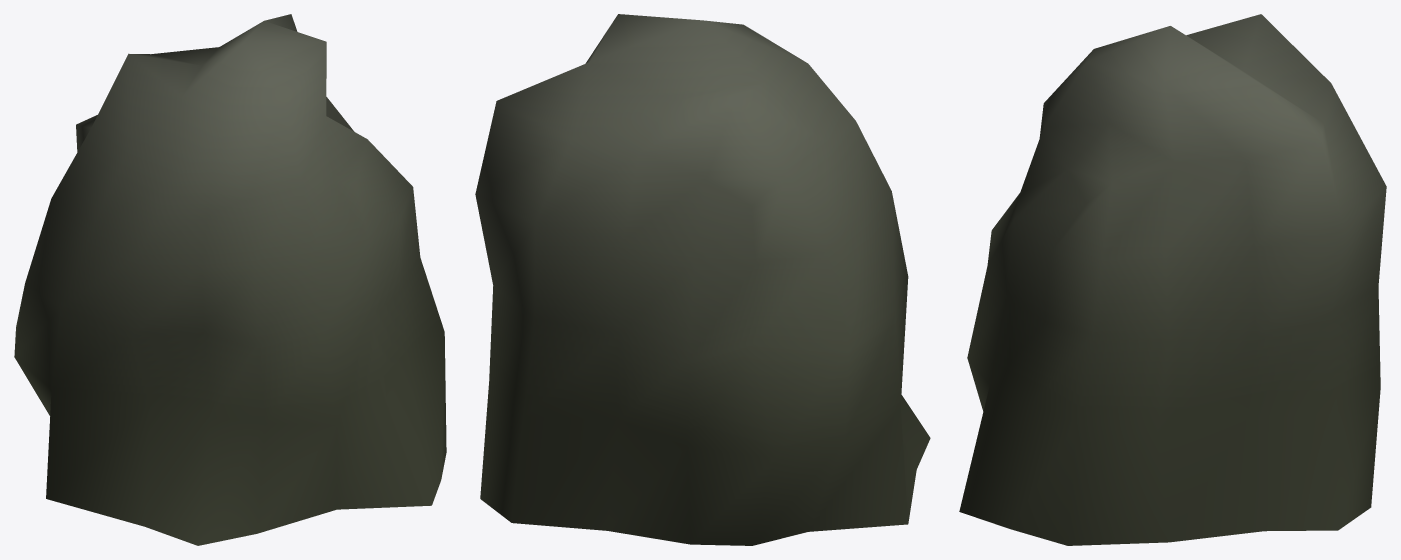
The model's file is WE02_Brush24.fbx.
3 renders of one model, left to right at view 1: azimuth 30°, elevation 25°; view 2: azimuth 150°, elevation 25°; view 3: azimuth 270°, elevation 25°, orthographic. The views are drawn at different scales.
Visible parts, largest first — view 1: WE02_Brush24; view 2: WE02_Brush24; view 3: WE02_Brush24.
Boxes of the visible parts, x1=… form: WE02_Brush24: x1=14, y1=14, x2=446, y2=545; WE02_Brush24: x1=475, y1=14, x2=930, y2=545; WE02_Brush24: x1=959, y1=14, x2=1386, y2=545.
Bounding box in the file's own units: 5.23 × 5.74 × 5.06.
